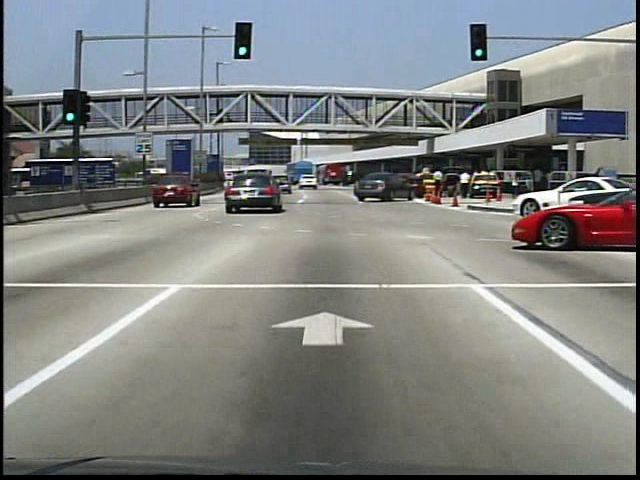person: (431, 168, 448, 205), (508, 173, 523, 207), (457, 172, 472, 202), (531, 169, 543, 193), (216, 109, 225, 128)
